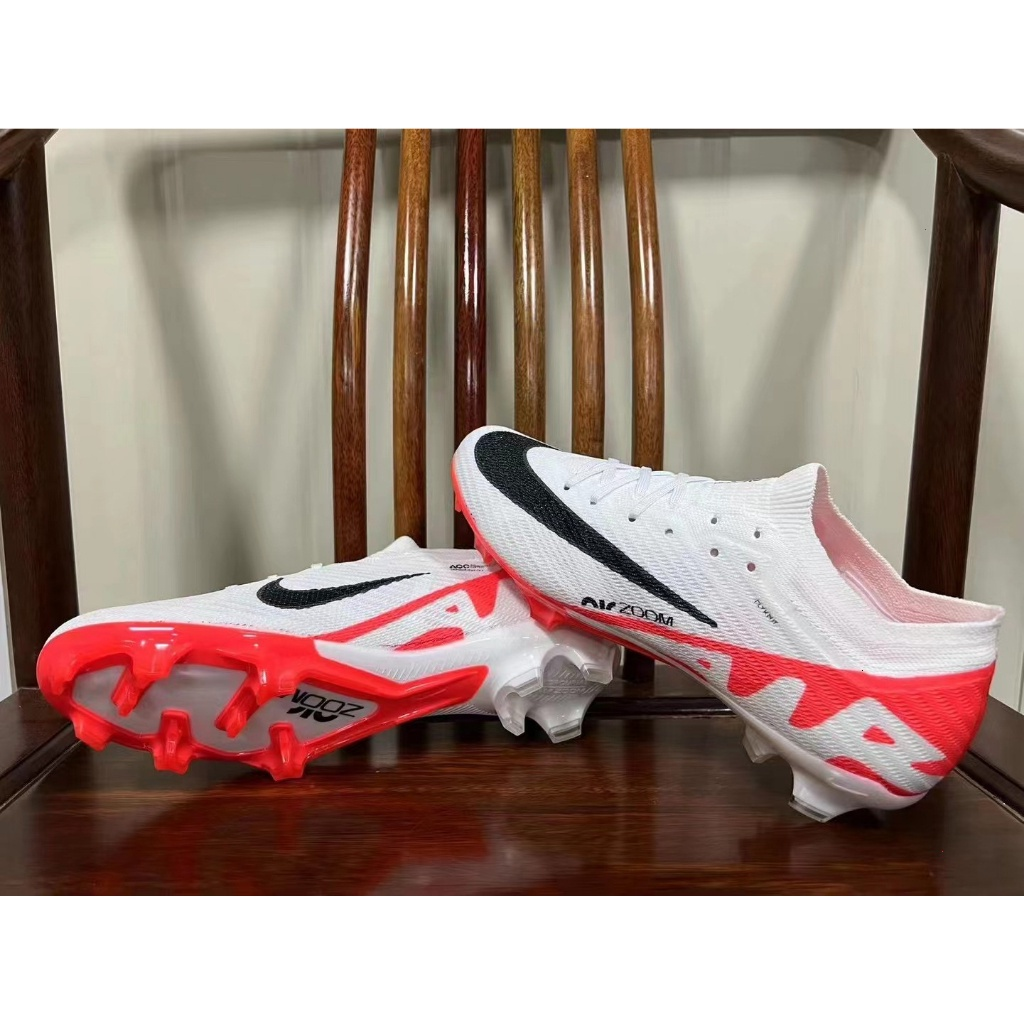soccer shoes: (449, 423, 1006, 823), (33, 535, 620, 785)
